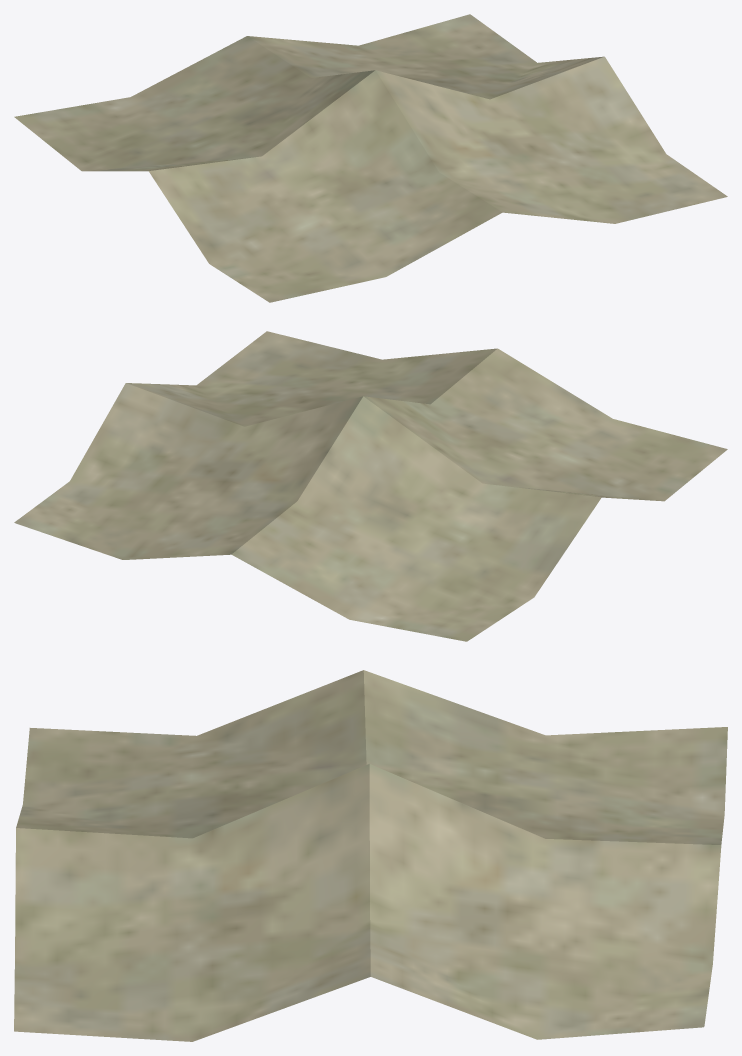
Rendered from poi_corl_tent_large_l3.fbx.
3 renders of one model, top to bottom at view 1: azimuth 30°, elevation 25°; view 2: azimuth 150°, elevation 25°; view 3: azimuth 270°, elevation 25°, orthographic. The views are drawn at different scales.
Visible parts, largest first — view 1: mesh_node; view 2: mesh_node; view 3: mesh_node.
Boxes of the visible parts, x1,y1,x2,y2 form: mesh_node: [14, 14, 727, 302]; mesh_node: [14, 331, 727, 641]; mesh_node: [14, 670, 727, 1041].
Bounding box in the file's own units: 10.83 × 2.1 × 10.58.
